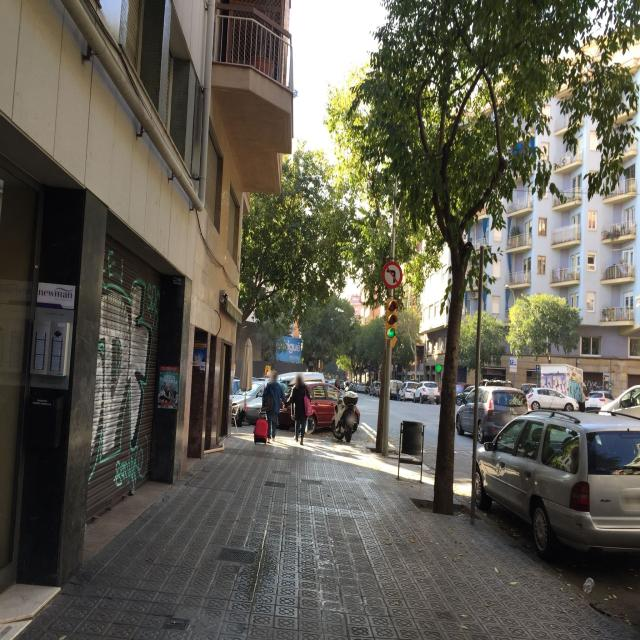bike: (331, 391, 361, 445)
car: (471, 411, 640, 564), (455, 385, 529, 444), (278, 374, 344, 434), (228, 374, 288, 428), (600, 383, 640, 419), (526, 386, 579, 412), (583, 389, 615, 414), (412, 380, 440, 404), (396, 380, 418, 401), (388, 379, 402, 399), (368, 381, 381, 396), (354, 382, 368, 393)
